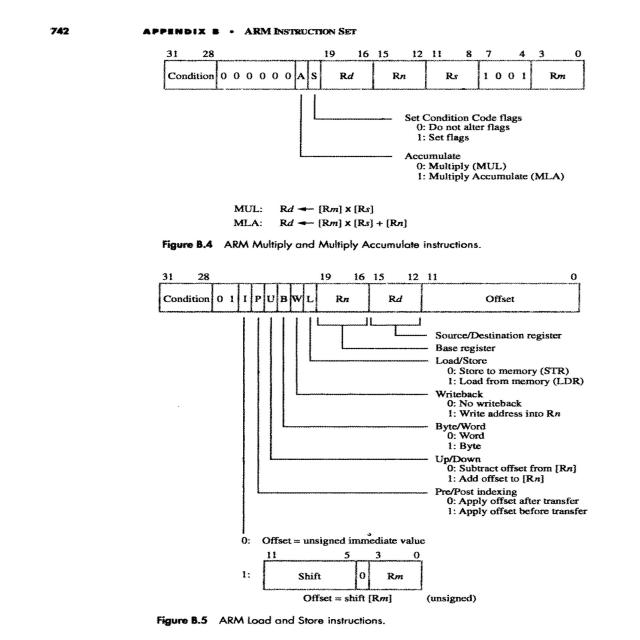diagram: (101, 45, 640, 630)
